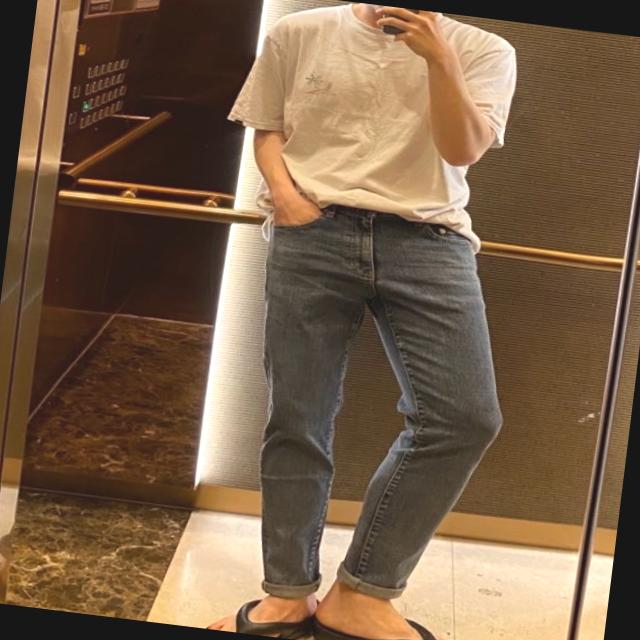denimpants: (230, 194, 526, 624)
shortsleeve: (216, 0, 527, 249)
